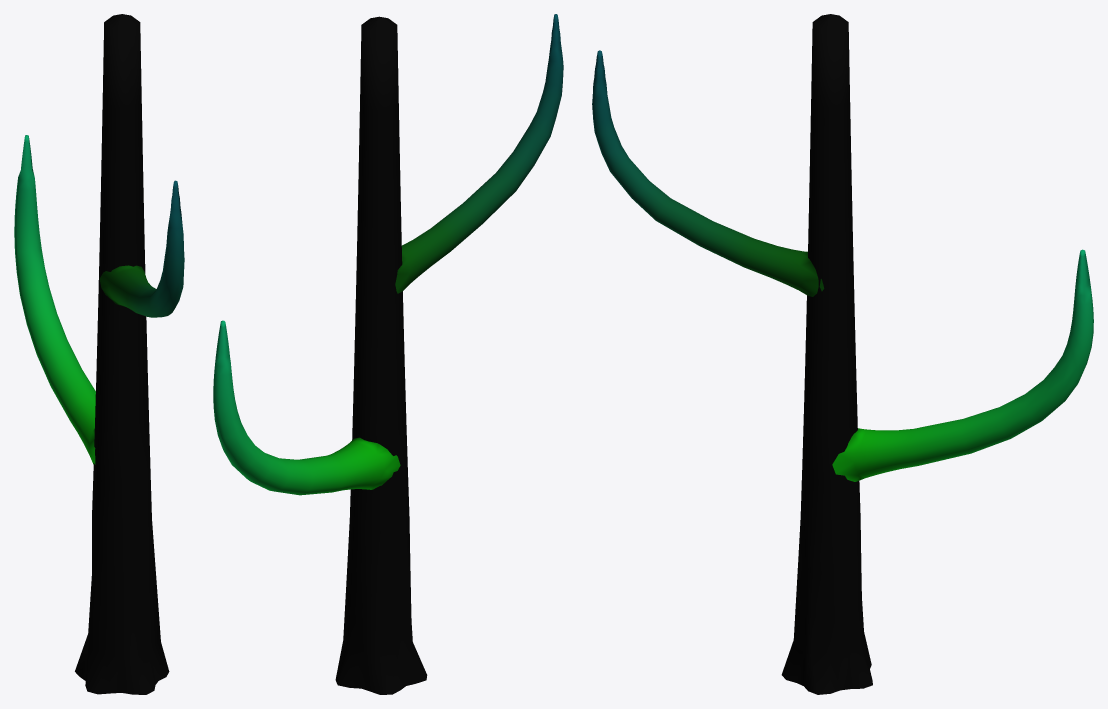
Rendered from trunkvar1.fbx.
The picture shows the model from 3 angles, left to right: view 1: azimuth 30°, elevation 25°; view 2: azimuth 150°, elevation 25°; view 3: azimuth 270°, elevation 25°; orthographic projection.
Visible parts, largest first — view 1: Tree_0; view 2: Tree_0; view 3: Tree_0.
Boxes of the visible parts, bbox=[...] form: Tree_0: bbox=[14, 14, 184, 694]; Tree_0: bbox=[213, 14, 563, 694]; Tree_0: bbox=[592, 14, 1093, 694].
Size of the model in its own units: 8.82 by 50.62 by 34.82.
